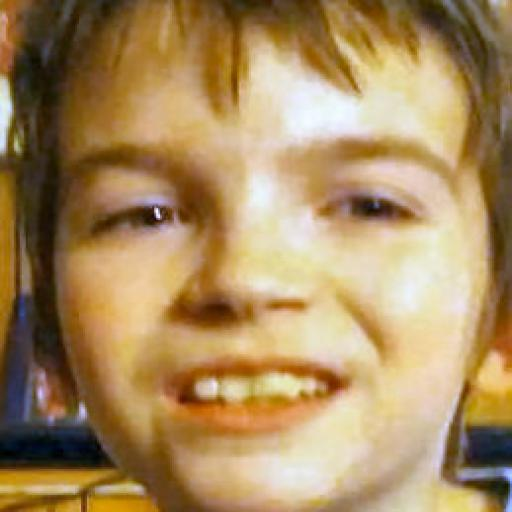Autism: (23, 3, 512, 511)
